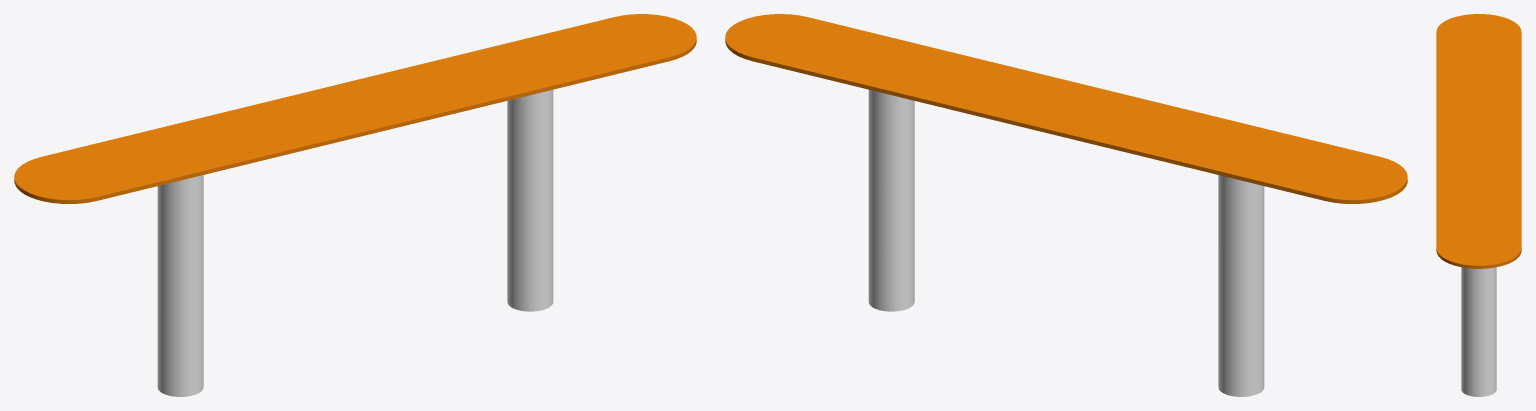
The model's file is PathMarker.dae.
The picture shows the model from 3 angles, left to right: view 1: azimuth 30°, elevation 25°; view 2: azimuth 150°, elevation 25°; view 3: azimuth 270°, elevation 25°; orthographic projection. The views are drawn at different scales.
Visible parts, largest first — view 1: Part 1 (×3); view 2: Part 1 (×3); view 3: Part 1 (×2).
Boxes of the visible parts, x1,y1,x2,y2 form: Part 1 (×3): (14, 14, 696, 396); Part 1 (×3): (725, 14, 1407, 396); Part 1 (×2): (1436, 14, 1521, 396).
Size of the model in its own units: 1.07 by 0.1524 by 0.3626.
